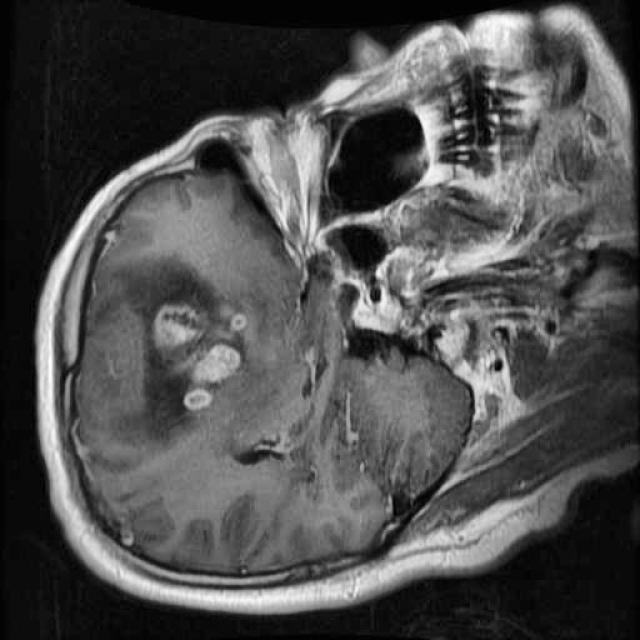Tumor: (143, 286, 264, 426)
